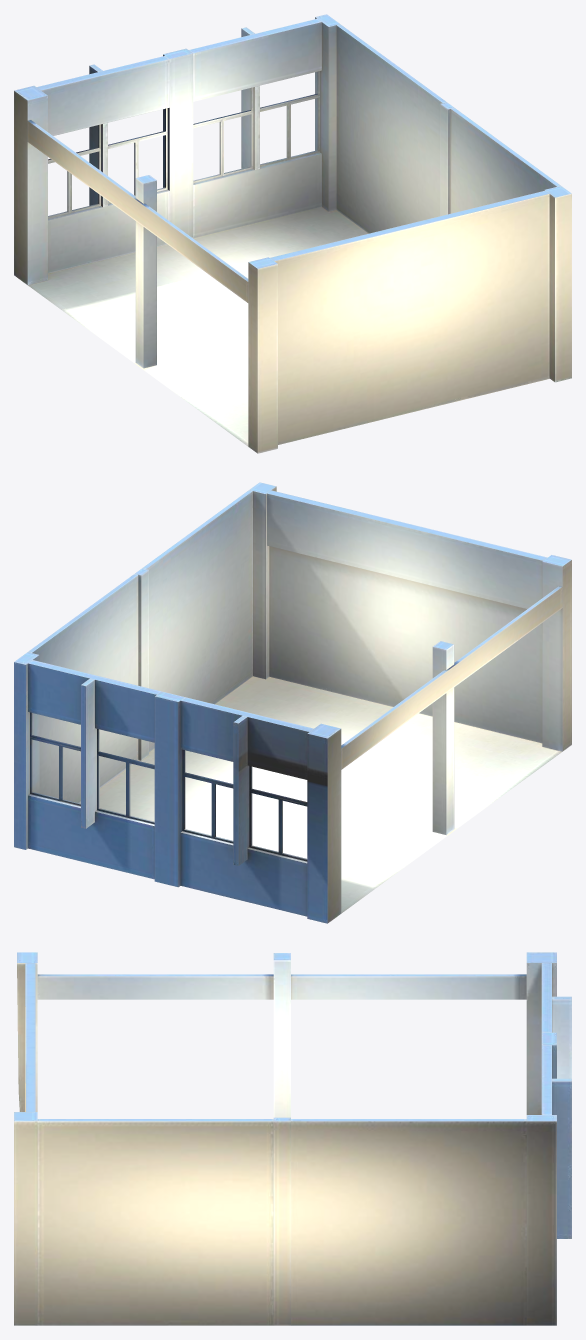
3 renders of one model, top to bottom at view 1: azimuth 30°, elevation 25°; view 2: azimuth 150°, elevation 25°; view 3: azimuth 270°, elevation 25°, orthographic. The views are drawn at different scales.
Parts seen in each view (by area): view 1: hc_1floor_room008_1; view 2: hc_1floor_room008_1; view 3: hc_1floor_room008_1.
Boxes of the visible parts, <box> form: hc_1floor_room008_1: <box>14,14,571,453</box>; hc_1floor_room008_1: <box>14,482,571,923</box>; hc_1floor_room008_1: <box>14,952,571,1325</box>.
Bounding box in the file's own units: 0.925 × 0.5218 × 1.29.
Materials: 1 (1 with a texture image).
